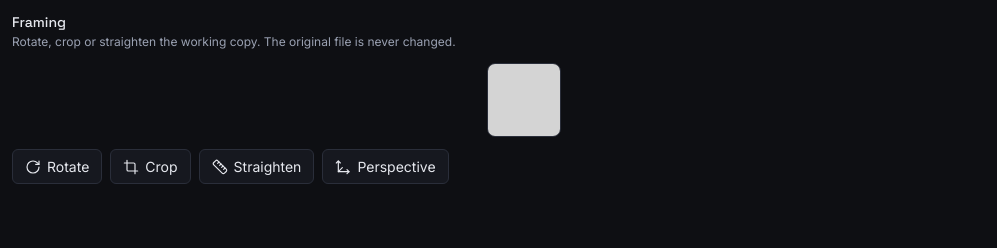
Test: GeometryTools › refuses crossed corners
The width and height of the screenshot is (997, 248).
Click the button "Perspective" at coordinates (386, 166), box 322,149 -> 449,184
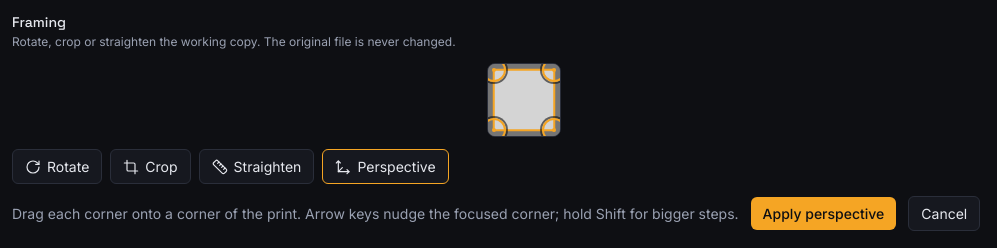
Press the mouse on the button named "Top-left corner" at coordinates (494, 70), box 482,58 -> 506,82
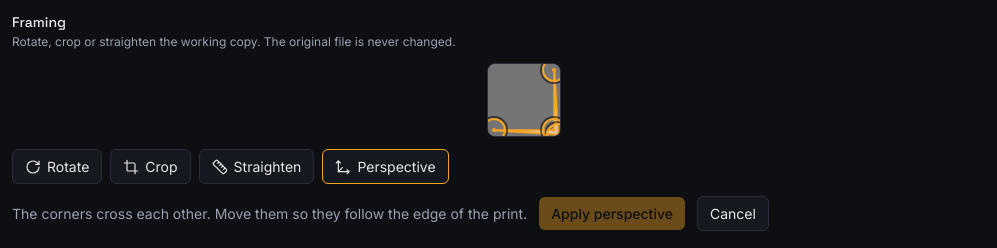
Expected: the button "Apply perspective" is disabled, 539,197 -> 685,230
Expected: the text "The corners cross each other. Move them so they follow the edge of the print." is shown, 12,203 -> 527,224
